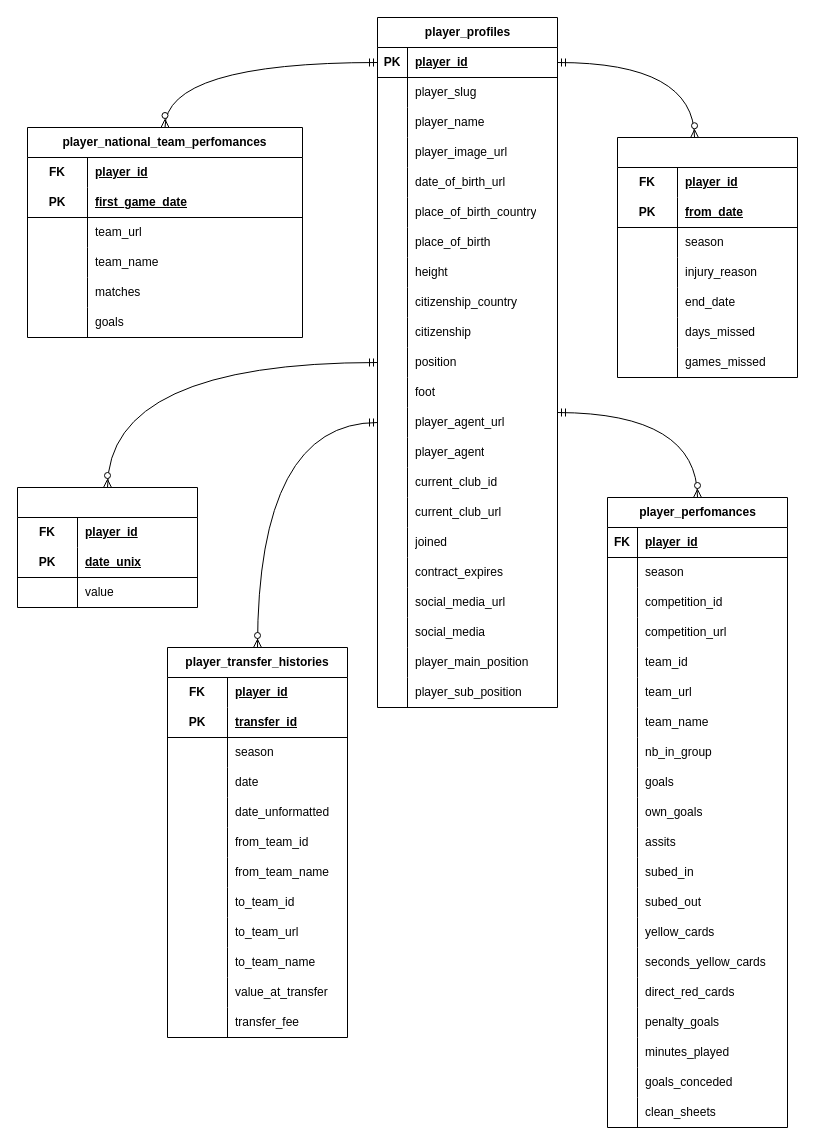
The diagram is 815 pixels wide and 1145 high, and some of its shapes have lost their labels. The box of each missing label's shape, as (x1, y1, x2, y2) in pixels:
player_injury_histories: (616, 136, 798, 378)
player_market_values: (16, 486, 198, 608)
